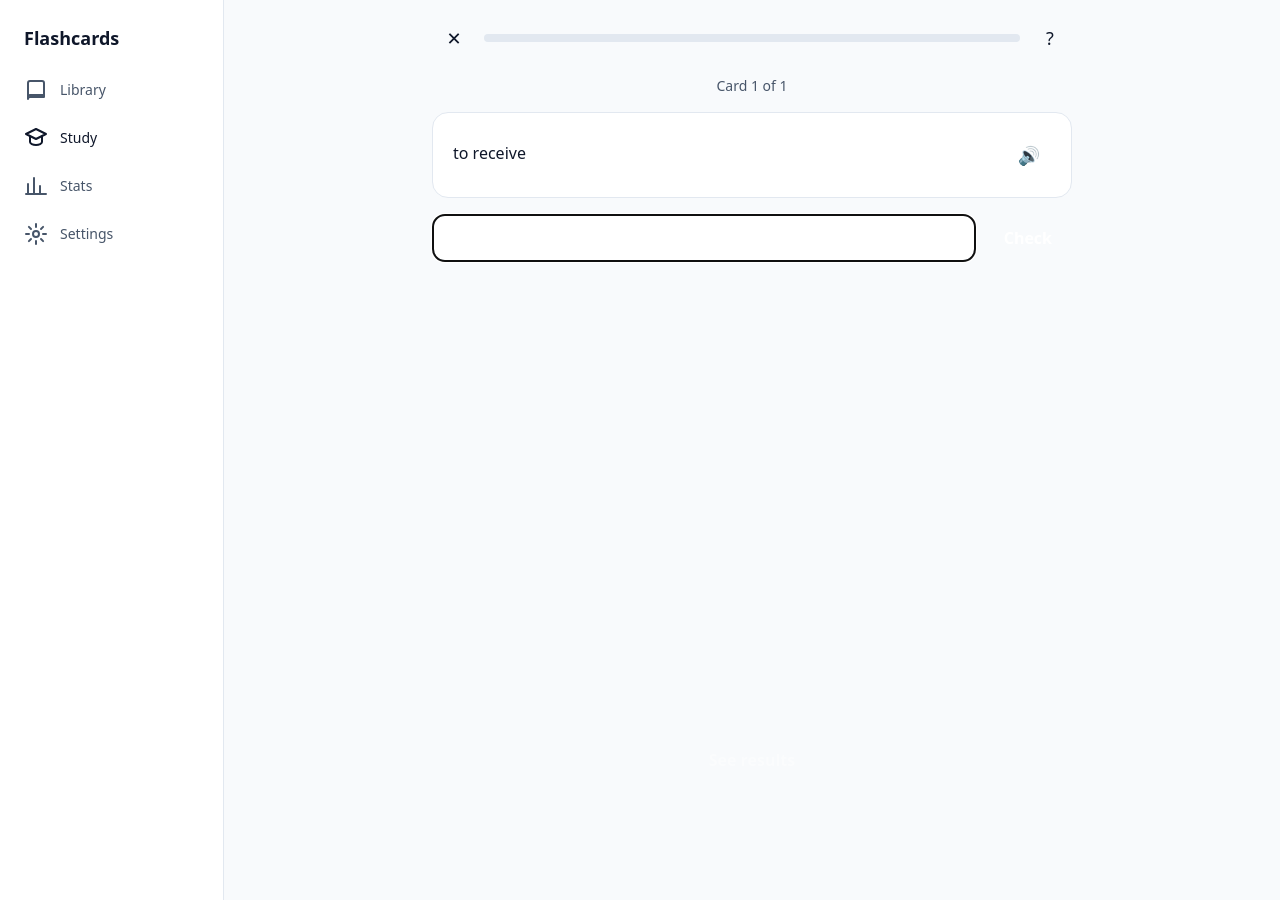
Test case: type mode › Enter checks, Enter again advances, and a close answer counts as correct with a note and diff
expect the text "to receive" is shown: met, box [453,142,526,164]
Type "recieve" into the field named "Your answer" at (704, 238), box [432,214,976,262]
Then press Enter
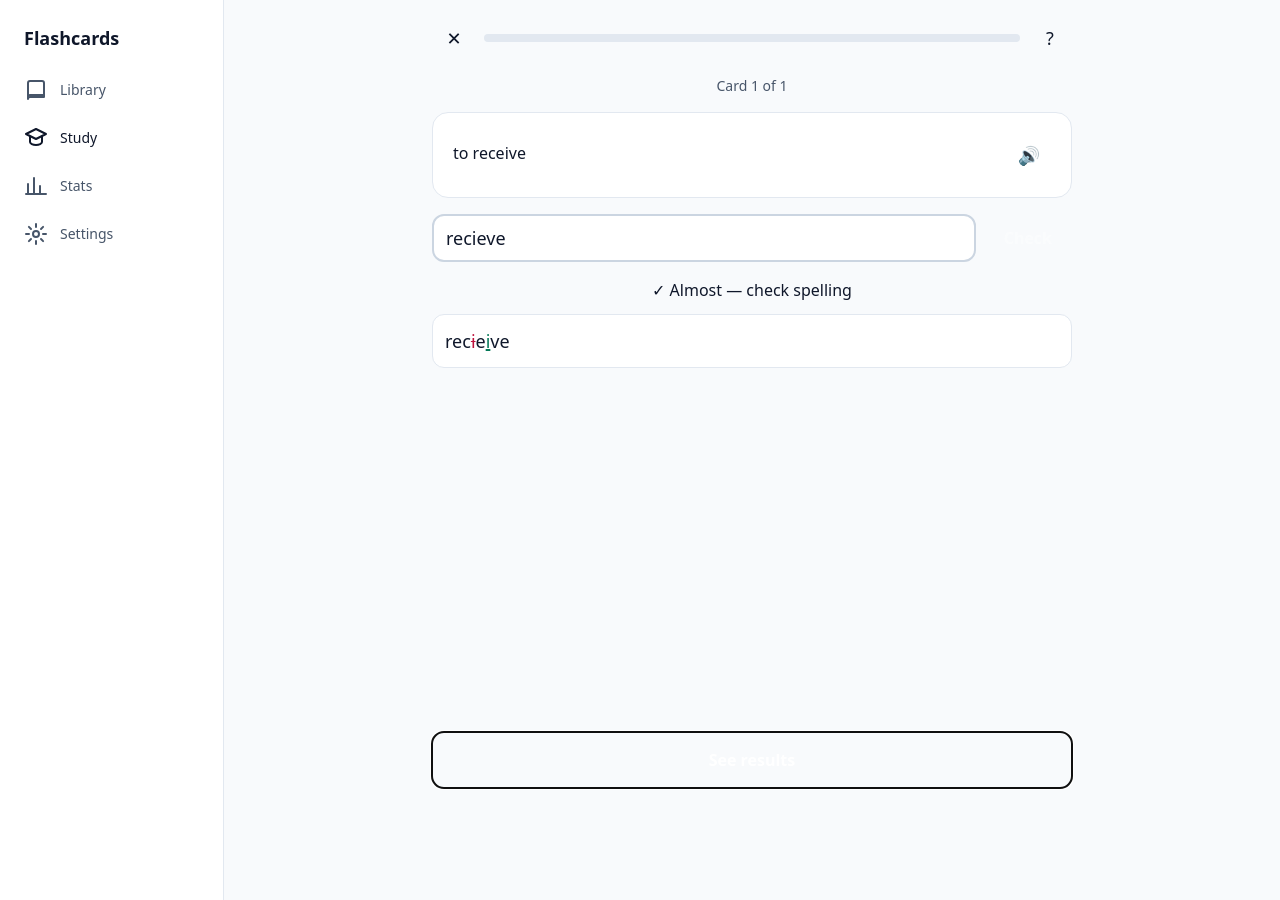
expect the text "Almost — check spelling" is shown: met, box [670,279,852,301]
expect the element named "Your answer compared with the expected answer" is shown: met, box [445,329,510,353]
Press Enter
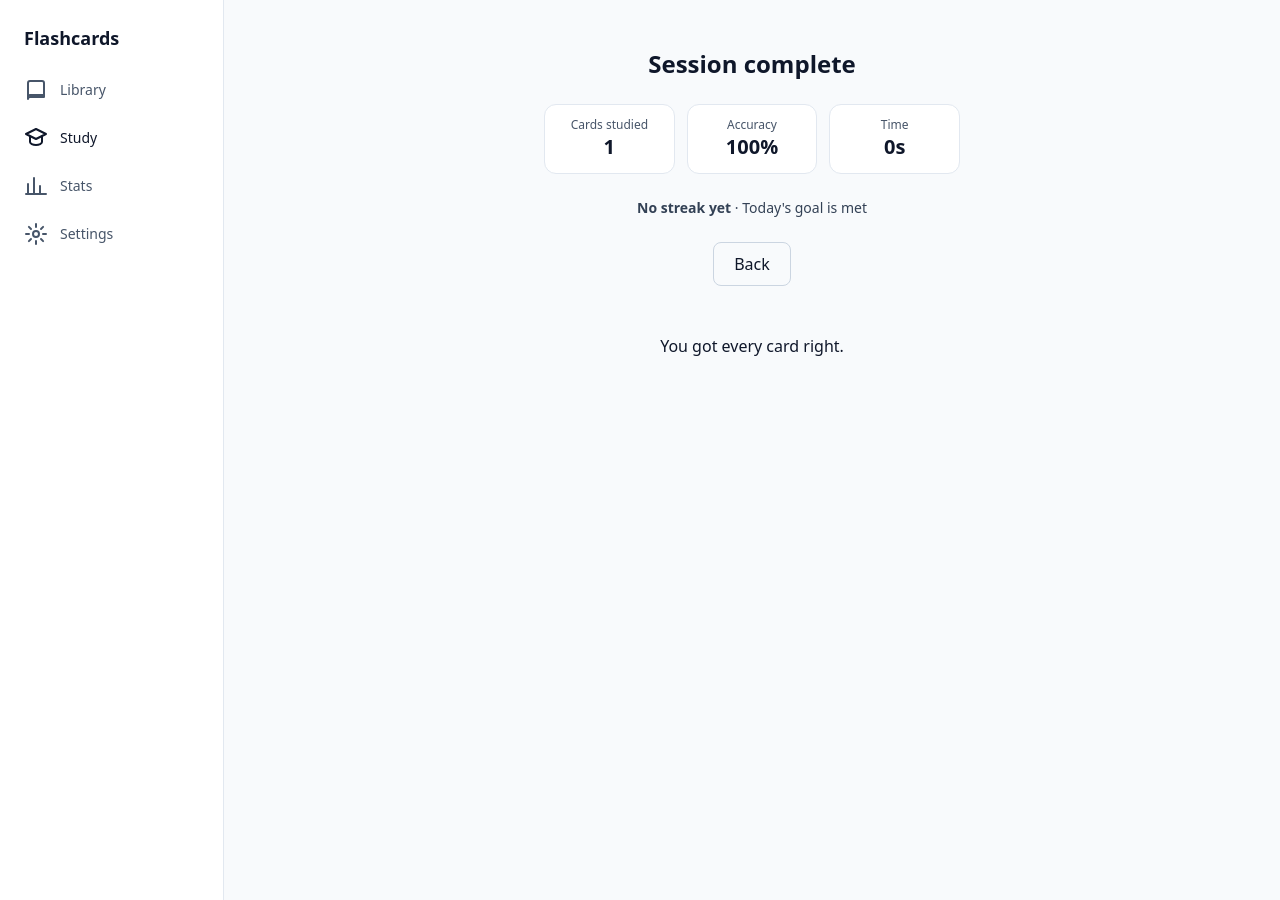
expect the heading "Session complete" is shown: met, box [648,47,856,80]
